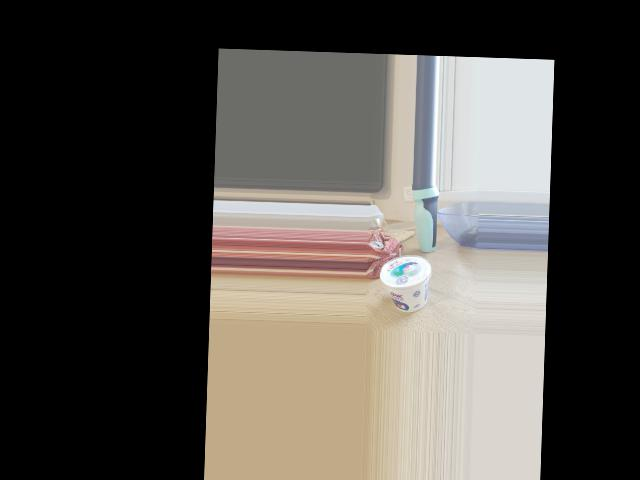cotage: (386, 250, 434, 315)
